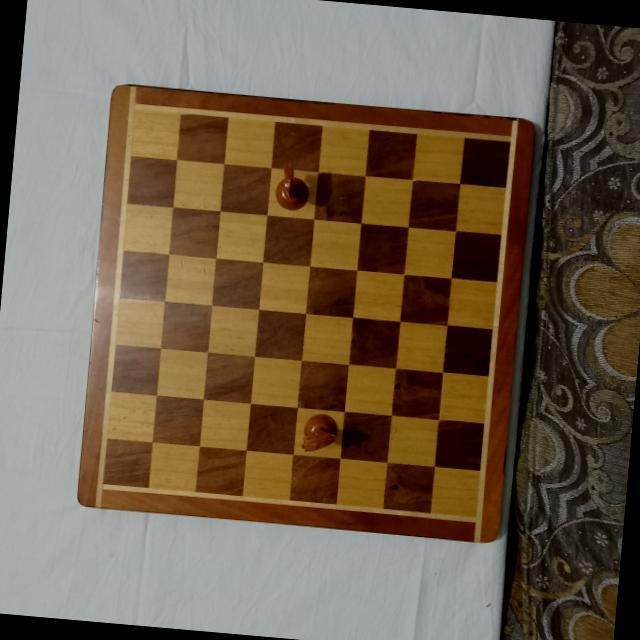white-knight: (272, 159, 312, 213), (297, 410, 339, 455)
